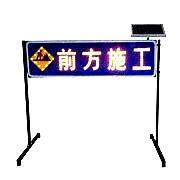sign: (23, 42, 157, 75)
